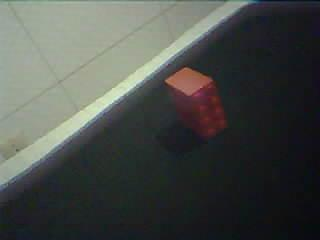lego: (163, 65, 226, 139)
